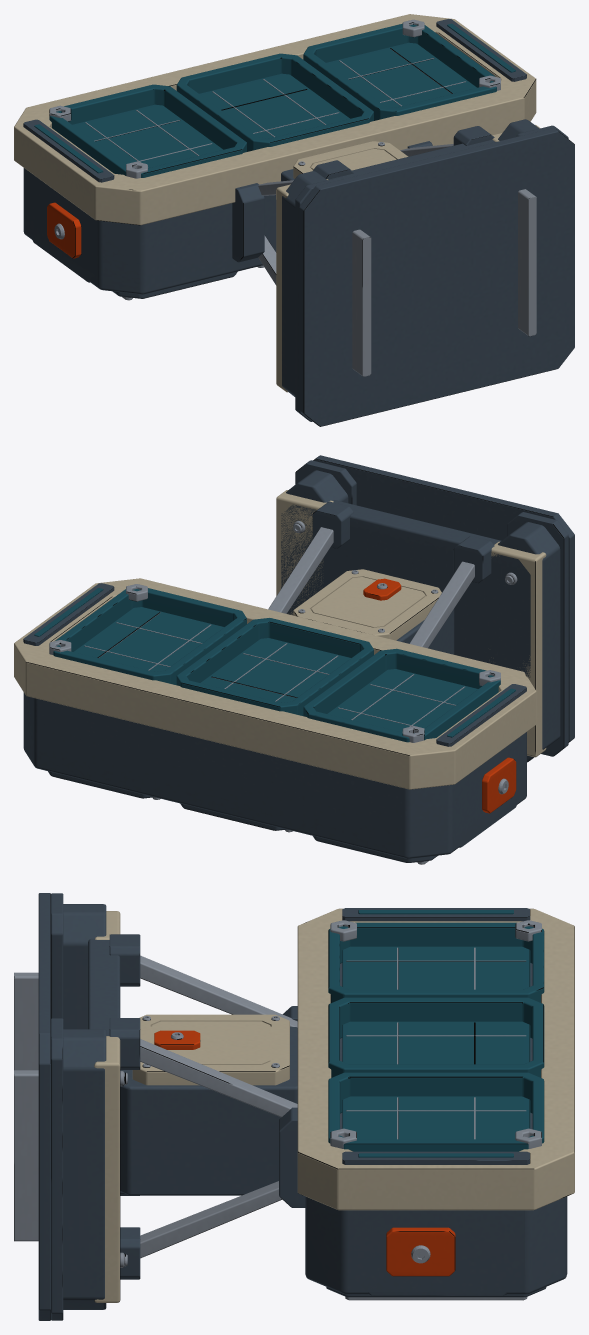
File: ExplorationScanner.fbx
The picture shows the model from 3 angles, top to bottom: view 1: azimuth 30°, elevation 25°; view 2: azimuth 150°, elevation 25°; view 3: azimuth 270°, elevation 25°; orthographic projection. The views are drawn at different scales.
Visible parts, largest first — view 1: adapter_WheeledCarrier_top, array_armour_rim, array_backbone, array_cell_frame.001, array_cell_frame, array_cell_frame.002, array_window.002, array_window.001, array_window, side_receiver_housing, foot_structural_runner, adapter_WheeledCarrier_edge_foot (+11 smaller); view 2: array_backbone, array_armour_rim, bridge_crossmember, adapter_WheeledCarrier_top, array_cell_frame.001, array_cell_frame, neck_service_cover, array_cell_frame.002, array_window.001, array_window.002, array_window, foot_structural_runner (+16 smaller); view 3: array_armour_rim, array_backbone, fixed_neck, foot_structural_runner.001, array_cell_frame.002, array_cell_frame.001, array_window, array_window.001, neck_service_cover, array_window.002, array_cell_frame, adapter_WheeledCarrier_top (+23 smaller).
Part boxes in pixels (x1,y1,x2,y2): adapter_WheeledCarrier_top: [299, 128, 574, 426]; array_armour_rim: [14, 14, 536, 225]; array_backbone: [23, 168, 276, 294]; array_cell_frame.001: [176, 53, 373, 151]; array_cell_frame: [49, 84, 246, 177]; array_cell_frame.002: [303, 23, 496, 120]; array_window.002: [326, 42, 476, 107]; array_window.001: [199, 73, 349, 138]; array_window: [72, 104, 222, 167]; side_receiver_housing: [24, 168, 96, 282]; foot_structural_runner: [282, 171, 327, 396]; adapter_WheeledCarrier_edge_foot: [352, 229, 371, 376]; array_backbone: [23, 692, 526, 858]; array_armour_rim: [14, 578, 536, 789]; bridge_crossmember: [281, 500, 530, 677]; adapter_WheeledCarrier_top: [313, 455, 574, 742]; array_cell_frame.001: [176, 618, 373, 715]; array_cell_frame: [303, 648, 500, 742]; neck_service_cover: [293, 569, 441, 640]; array_cell_frame.002: [53, 588, 246, 685]; array_window.001: [200, 638, 350, 702]; array_window.002: [73, 607, 224, 671]; array_window: [327, 669, 477, 732]; foot_structural_runner: [498, 522, 560, 762]; array_armour_rim: [297, 908, 574, 1210]; array_backbone: [305, 963, 567, 1294]; fixed_neck: [120, 1027, 297, 1195]; foot_structural_runner.001: [63, 1029, 106, 1309]; array_cell_frame.002: [328, 1072, 544, 1151]; array_cell_frame.001: [328, 997, 544, 1077]; array_window: [342, 946, 530, 989]; array_window.001: [342, 1021, 530, 1064]; neck_service_cover: [132, 1014, 289, 1085]; array_window.002: [342, 1096, 530, 1139]; array_cell_frame: [328, 922, 544, 1002]; adapter_WheeledCarrier_top: [38, 893, 50, 1320].
Size of the model in its own units: 40.56 by 20.6 by 36.4.
